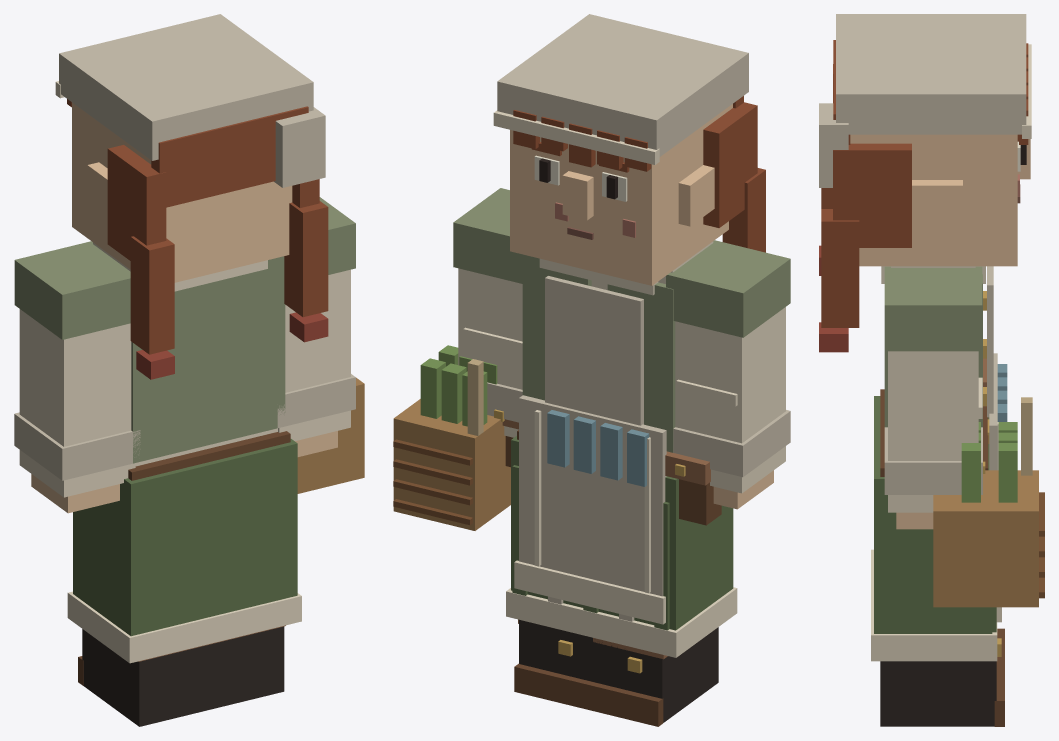
Rendered from healer.obj.
The picture shows the model from 3 angles, left to right: view 1: azimuth 30°, elevation 25°; view 2: azimuth 150°, elevation 25°; view 3: azimuth 270°, elevation 25°; orthographic projection. The views are drawn at different scales.
Parts seen in each view (by area): view 1: head, body, right_arm, left_arm, right_leg, left_leg, equipment_left; view 2: body, head, right_arm, equipment_left, left_arm, right_leg, left_leg; view 3: head, left_arm, body, equipment_left, left_leg.
Boxes of the visible parts, <box> form: head: <box>55,14,328,379</box>; body: <box>67,242,301,663</box>; right_arm: <box>14,241,140,513</box>; left_arm: <box>277,197,355,456</box>; right_leg: <box>78,629,215,726</box>; left_leg: <box>209,625,285,708</box>; equipment_left: <box>297,377,364,493</box>; body: <box>494,241,737,657</box>; head: <box>493,14,765,285</box>; right_arm: <box>666,240,790,509</box>; equipment_left: <box>393,345,510,530</box>; left_arm: <box>453,188,522,437</box>; right_leg: <box>583,627,718,726</box>; left_leg: <box>514,619,592,708</box>; head: <box>819,14,1031,352</box>; left_arm: <box>884,266,982,529</box>; body: <box>871,266,1007,661</box>; equipment_left: <box>933,397,1044,607</box>; left_leg: <box>880,638,1004,726</box>.
Bounding box in the file's own units: 1.14 × 2.08 × 0.6675.
